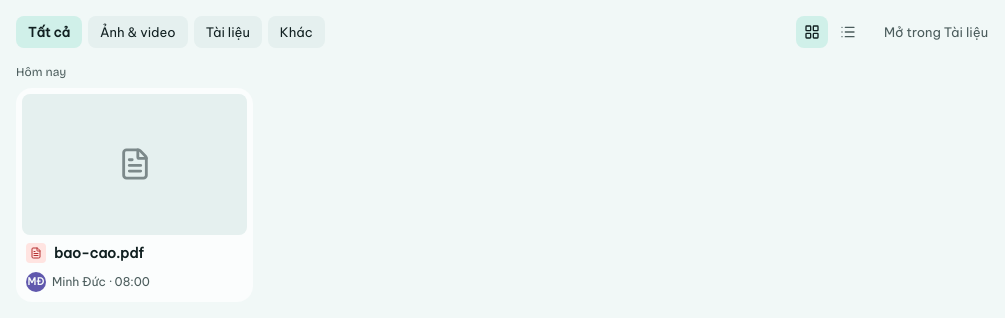
SpaceFiles › says so per chip when nothing of that kind exists
Check: the button "bao-cao.pdf MĐ Minh Đức · 08:00" is shown, box [16, 88, 253, 302]
Click the radio button labelled "Ảnh & video" at (138, 32), box [88, 16, 188, 48]
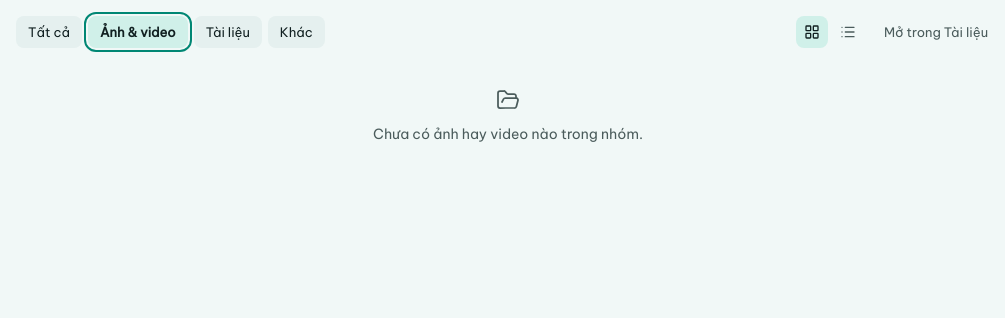
Check: the text "Chưa có ảnh hay video nào trong nhóm." is shown, box [373, 124, 643, 145]
